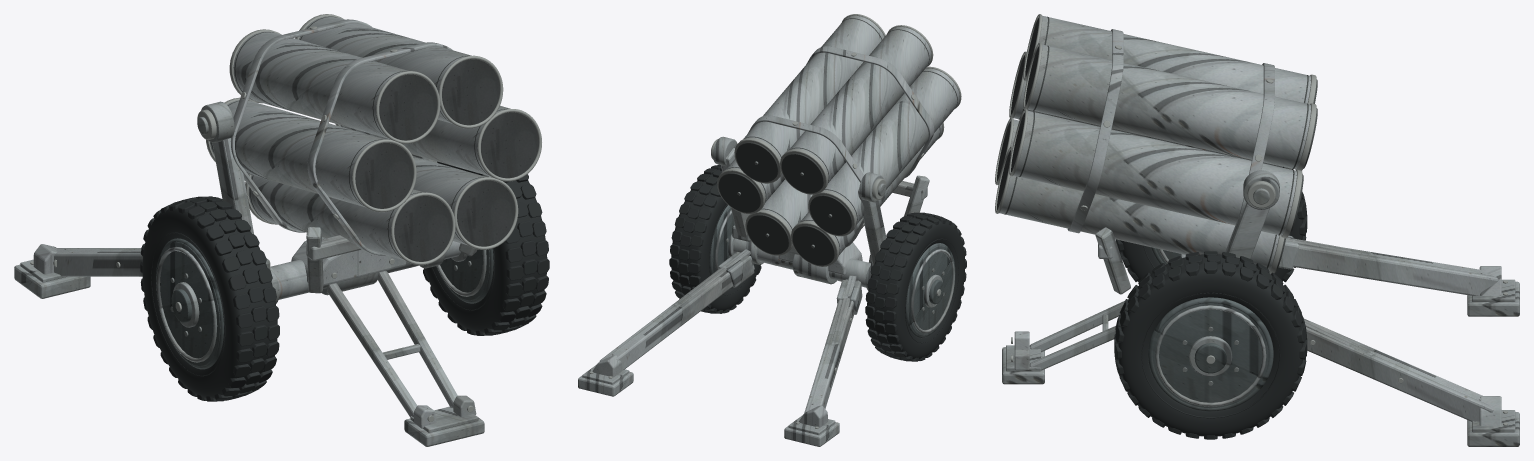
File: mcp-worker-static.glb
The picture shows the model from 3 angles, left to right: view 1: azimuth 30°, elevation 25°; view 2: azimuth 150°, elevation 25°; view 3: azimuth 270°, elevation 25°; orthographic projection. The views are drawn at different scales.
Parts seen in each view (by area): view 1: N41_Solid_Tube_3, N41_Solid_Tube_4, N41_Wheel_Carcass_-1, N41_Solid_Tube_5, N41_Solid_Tube_2, N41_Solid_Tube_1, N41_Solid_Tube_6, N41_Wheel_Carcass_1, N41_Wheel_Disc_-1_-1, N41_Trail_Beam_-1, N41_Exterior_Bundle_Band_1, N41_Exterior_Bundle_Band_2 (+22 smaller); view 2: N41_Solid_Tube_3, N41_Solid_Tube_4, N41_Solid_Tube_2, N41_Wheel_Carcass_-1, N41_Trail_Beam_1, N41_Wheel_Carcass_1, N41_Wheel_Disc_-1_-1, N41_Trail_Beam_-1, N41_Exterior_Bundle_Band_1, N41_Solid_Tube_6, N41_Shallow_Dark_End_1_1, N41_Shallow_Dark_End_3_1 (+31 smaller); view 3: N41_Solid_Tube_2, N41_Solid_Tube_1, N41_Wheel_Carcass_1, N41_Solid_Tube_6, N41_Solid_Tube_3, N41_Wheel_Disc_1_1, N41_Trail_Beam_1, N41_Trail_Beam_-1, N41_Exterior_Bundle_Band_1, N41_Rolled_Rim_Lip_1_1, N41_Inner_Disc_Recess_1_1, N41_Exterior_Bundle_Band_2 (+15 smaller).
Boxes of the visible parts, x1,y1,x2,y2 form: N41_Solid_Tube_3: (233, 31, 437, 140); N41_Solid_Tube_4: (210, 100, 413, 208); N41_Wheel_Carcass_-1: (142, 203, 277, 398); N41_Solid_Tube_5: (248, 175, 452, 261); N41_Solid_Tube_2: (299, 16, 499, 125); N41_Solid_Tube_1: (340, 105, 538, 178); N41_Solid_Tube_6: (412, 156, 515, 246); N41_Wheel_Carcass_1: (424, 161, 547, 332); N41_Wheel_Disc_-1_-1: (156, 241, 220, 366); N41_Trail_Beam_-1: (54, 248, 142, 276); N41_Exterior_Bundle_Band_1: (307, 42, 490, 255); N41_Exterior_Bundle_Band_2: (230, 19, 371, 232); N41_Solid_Tube_3: (789, 27, 931, 182); N41_Solid_Tube_4: (824, 68, 959, 224); N41_Solid_Tube_2: (743, 15, 884, 158); N41_Wheel_Carcass_-1: (867, 217, 965, 359); N41_Trail_Beam_1: (599, 252, 754, 370); N41_Wheel_Carcass_1: (671, 169, 760, 311); N41_Wheel_Disc_-1_-1: (908, 245, 955, 336); N41_Trail_Beam_-1: (804, 279, 858, 412); N41_Exterior_Bundle_Band_1: (806, 46, 934, 177); N41_Solid_Tube_6: (761, 179, 812, 230); N41_Shallow_Dark_End_1_1: (718, 172, 761, 212); N41_Shallow_Dark_End_3_1: (781, 153, 824, 193); N41_Solid_Tube_2: (1025, 44, 1310, 169); N41_Solid_Tube_1: (1011, 110, 1296, 235); N41_Wheel_Carcass_1: (1118, 254, 1303, 436); N41_Solid_Tube_6: (997, 150, 1279, 270); N41_Solid_Tube_3: (1025, 15, 1310, 103); N41_Wheel_Disc_1_1: (1152, 303, 1268, 408); N41_Trail_Beam_1: (1304, 318, 1493, 421); N41_Trail_Beam_-1: (1293, 244, 1498, 295); N41_Exterior_Bundle_Band_1: (1067, 29, 1123, 233); N41_Rolled_Rim_Lip_1_1: (1148, 297, 1273, 411); N41_Inner_Disc_Recess_1_1: (1155, 305, 1266, 406); N41_Exterior_Bundle_Band_2: (1225, 63, 1274, 252).
Size of the model in its own units: 1.86 by 1.92 by 2.69.
12 materials, 9 textured.
